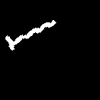half_double_crochet: (6, 20, 55, 49)
